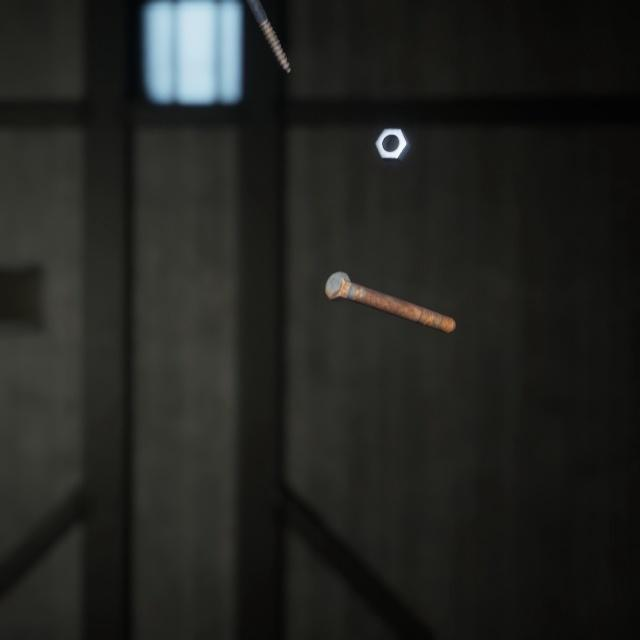bolt: (320, 250, 460, 321), (245, 0, 295, 68)
nut: (370, 111, 415, 153)
